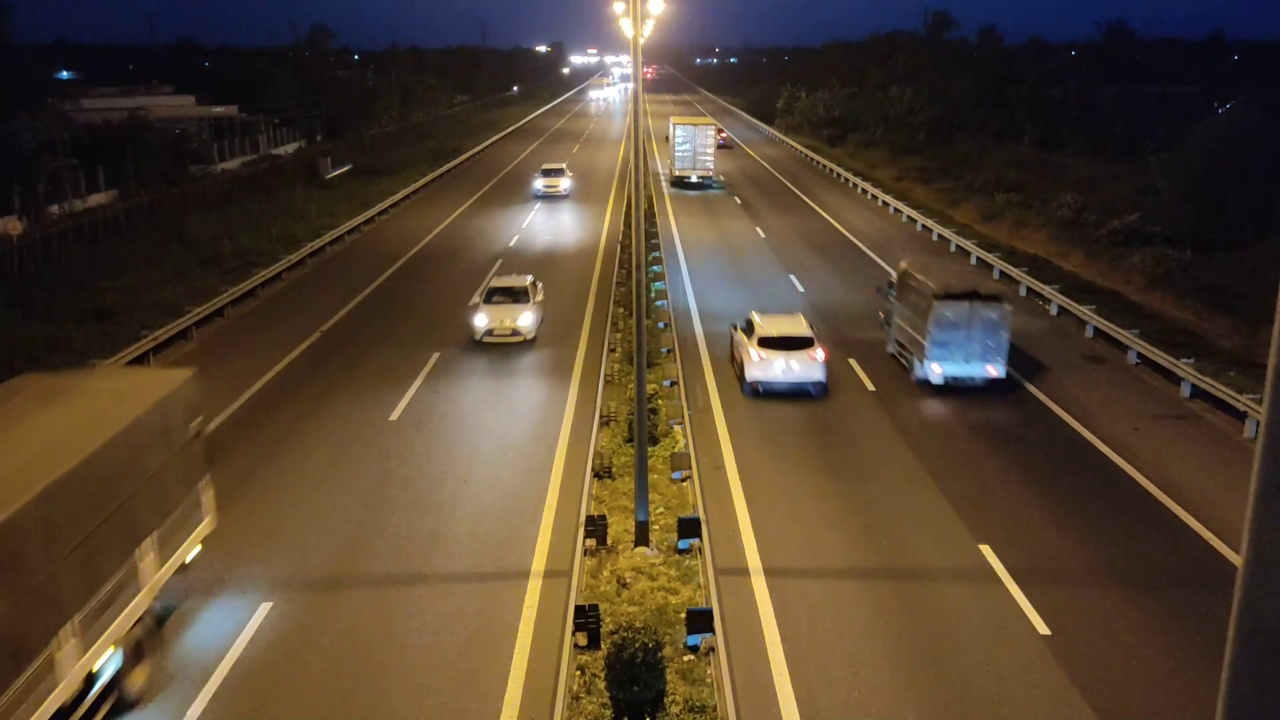car: (729, 309, 829, 398), (467, 269, 546, 344), (531, 163, 575, 200)
truck: (877, 257, 1014, 389), (667, 115, 719, 191)
